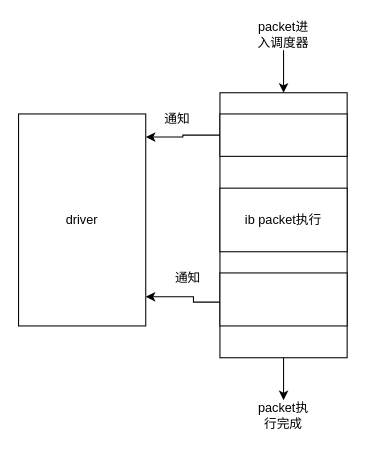
Some shapes in this 366 by 449 pixel diagram are drawn without their labels. The centre of each missing label's shape, as x and y in pixels:
"finish_fence" belongs at [283,299].
"scheduled_fence" belongs at [283,134].
